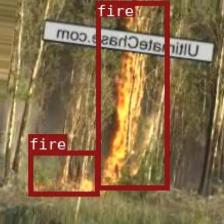fire: (95, 0, 168, 190), (27, 150, 99, 195)
